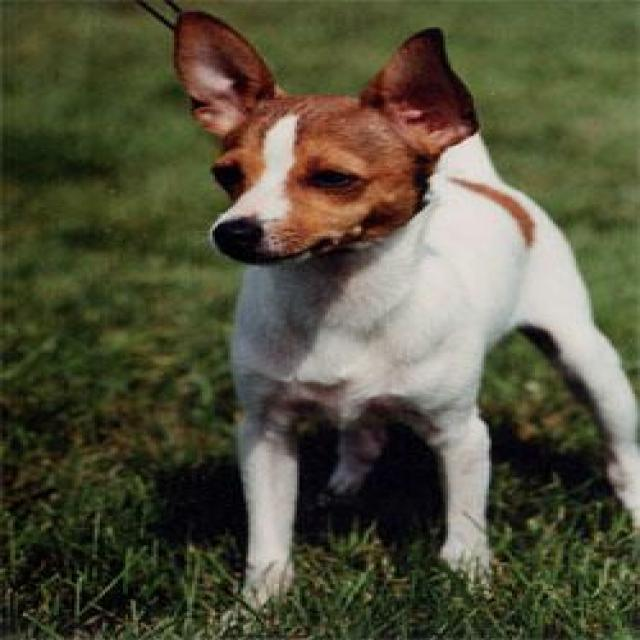toy_terrier: (174, 0, 638, 611)
